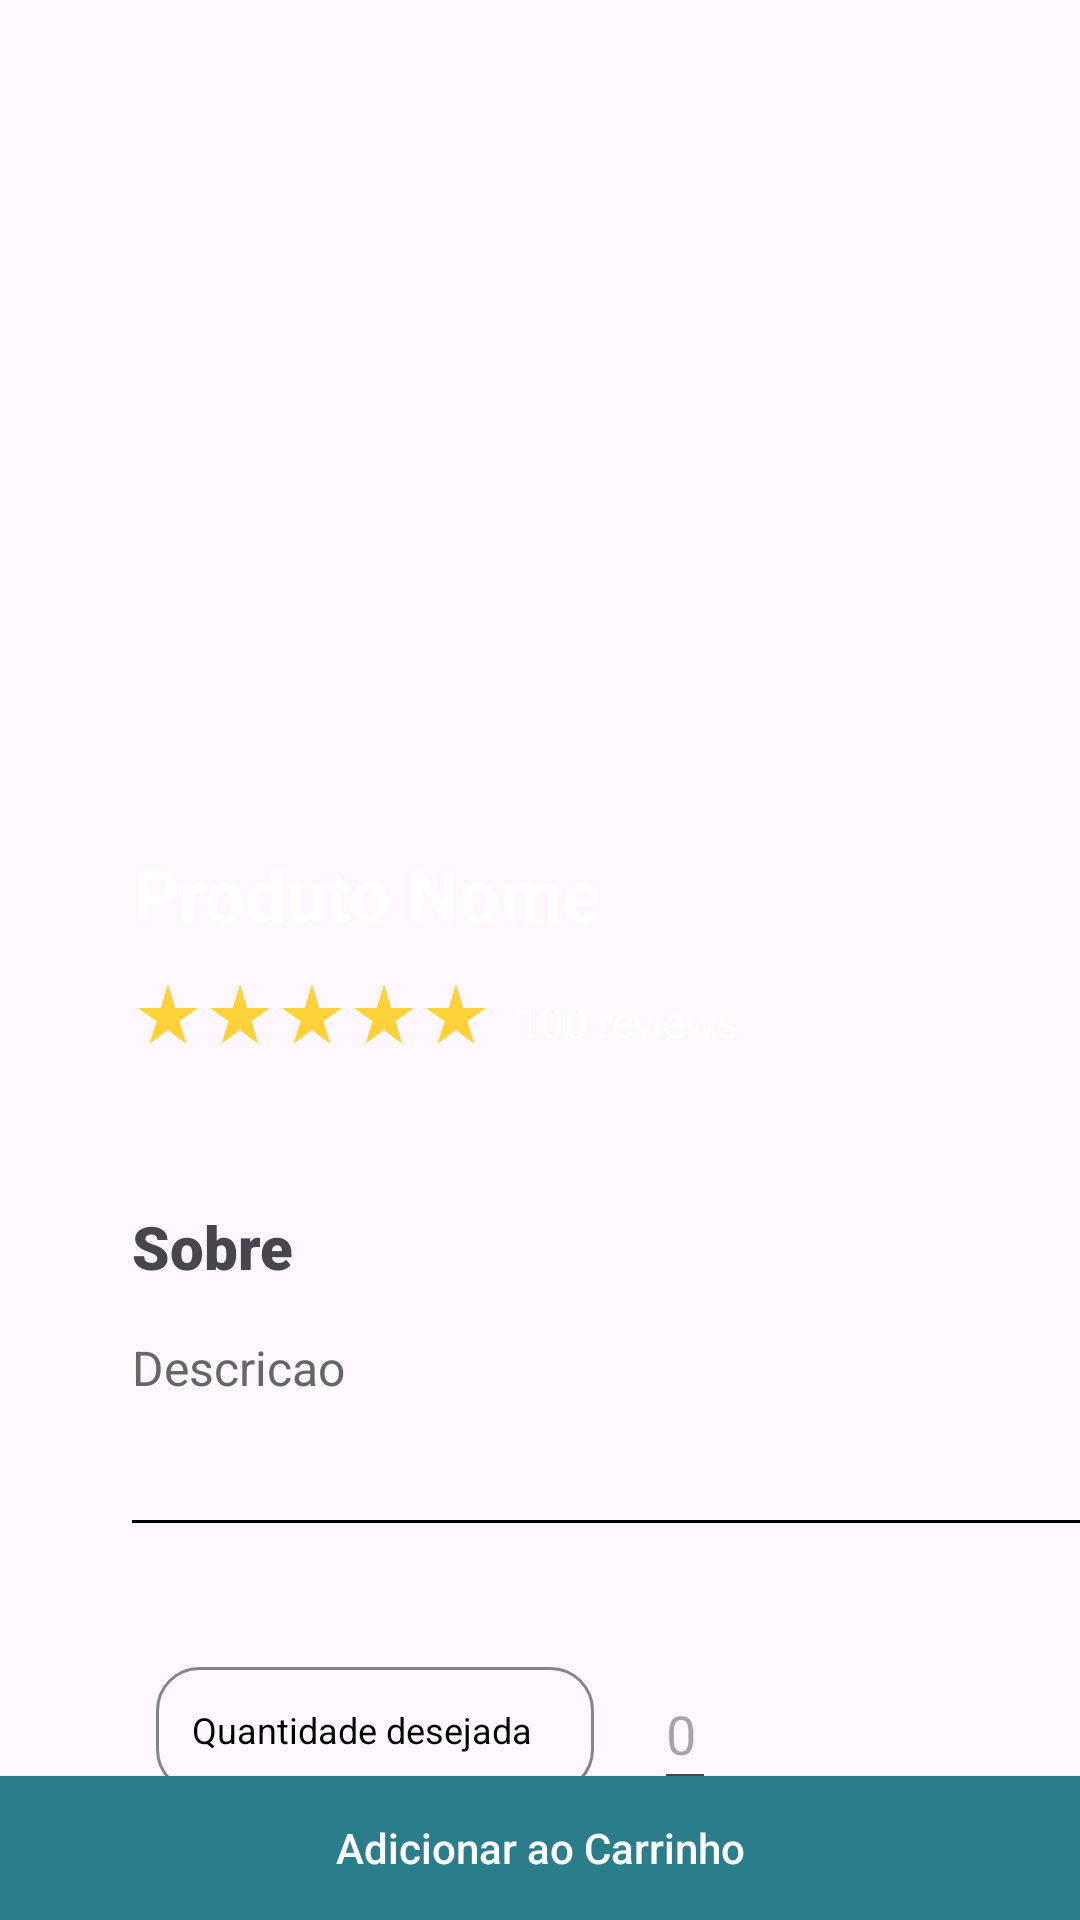

Icons on this 1080 x 1920 Android screen, each with the point to tap as [x,y]:
star rate: [168,1014], [240,1014], [312,1014], [384,1014], [456,1014]
